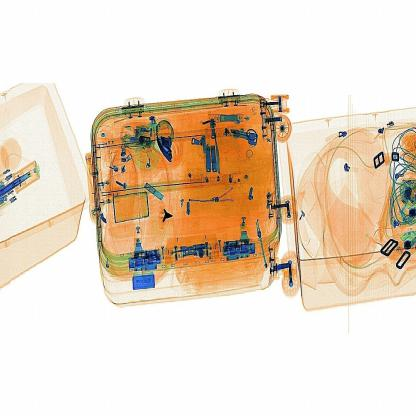gun: (151, 195, 178, 234)
